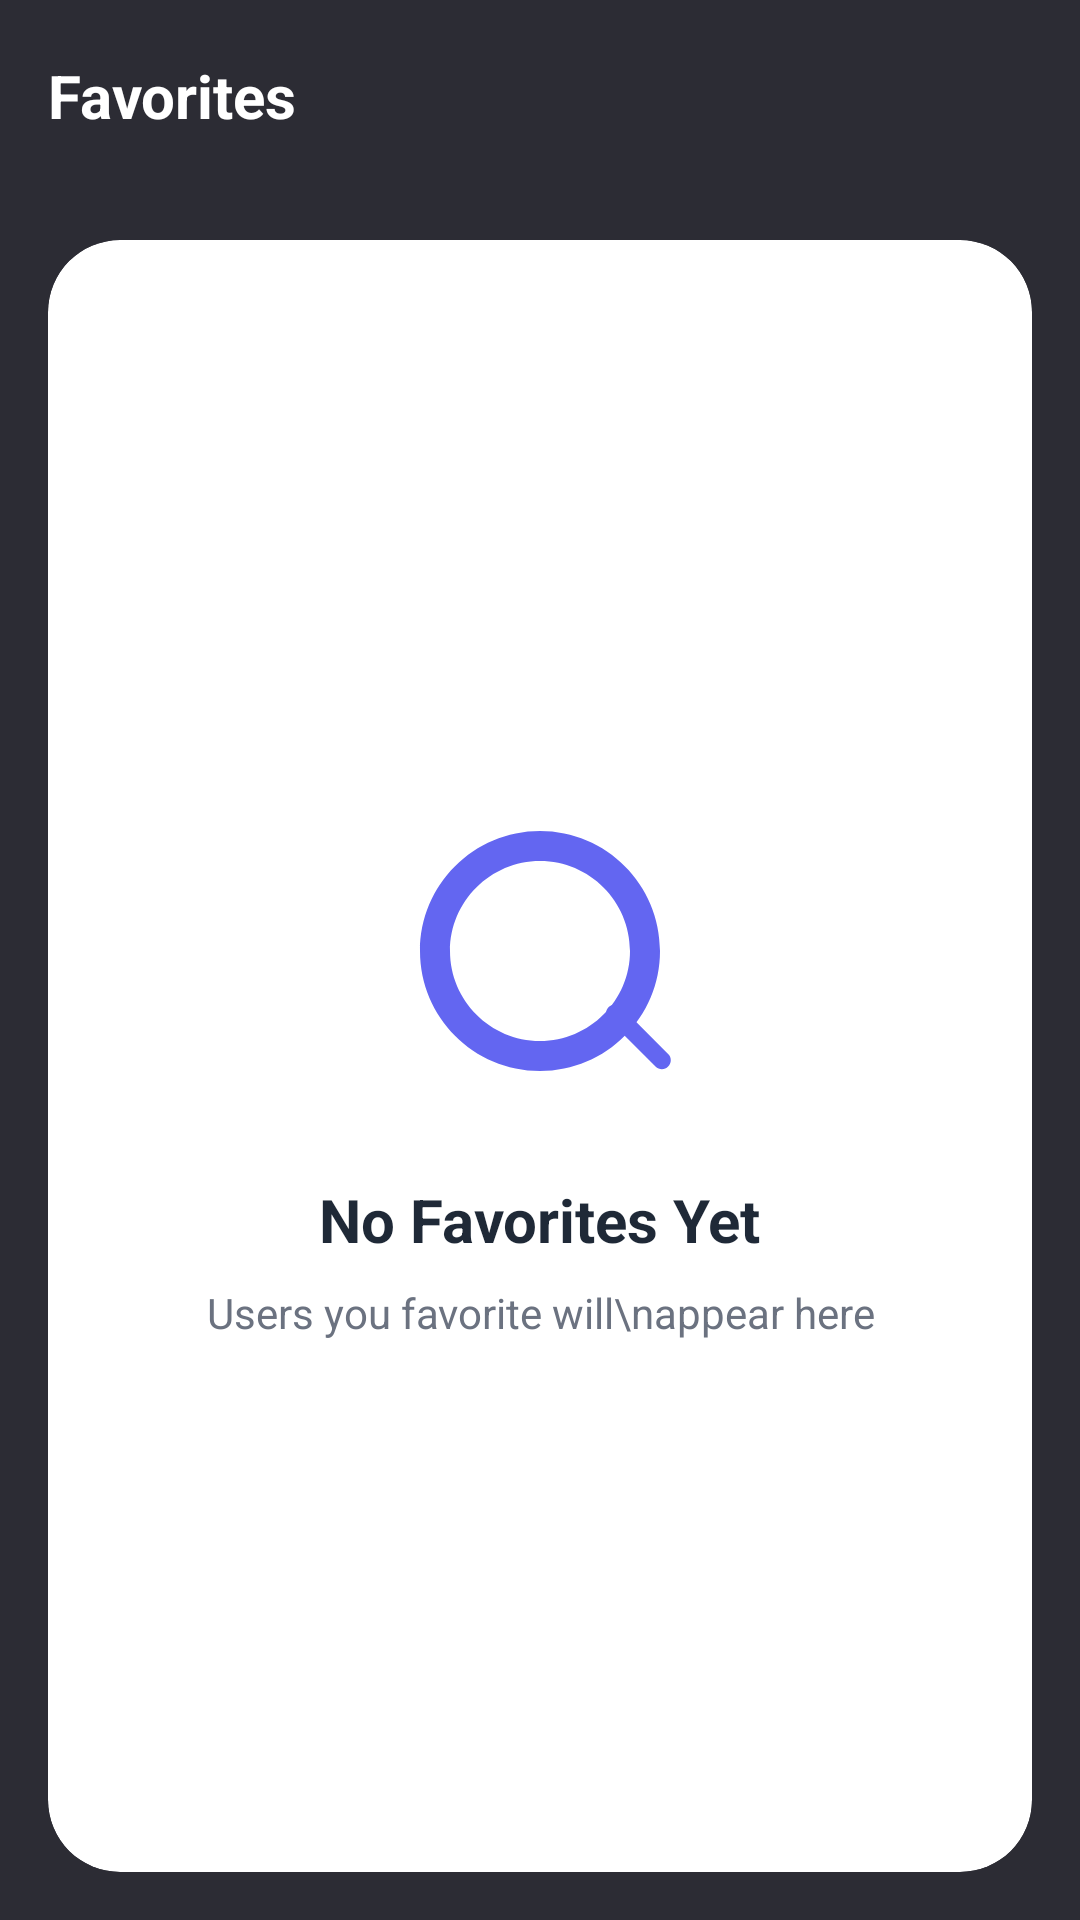

Where icons sit on this 1080x1920 app screen, as [x1, y1, x2, y2]:
search empty: [420, 831, 671, 1071]
